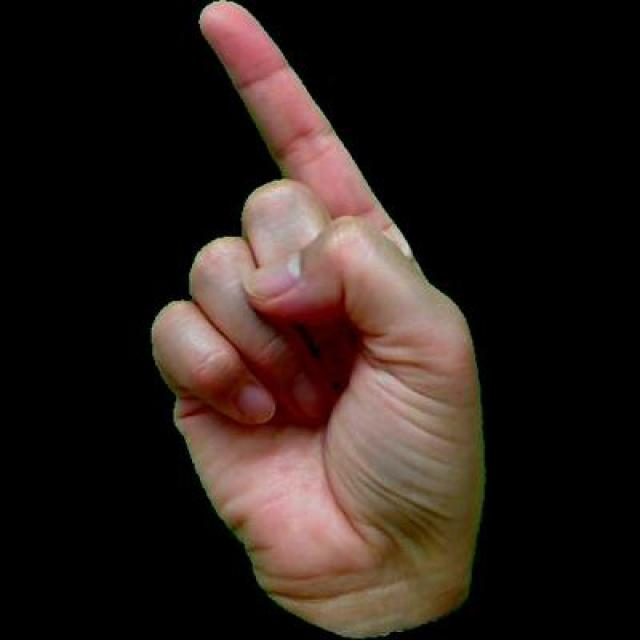z: (125, 0, 485, 637)
